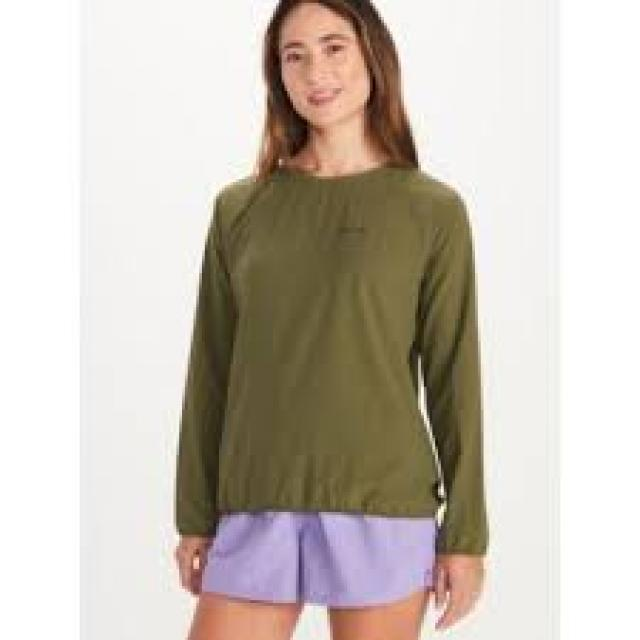plain: (176, 155, 494, 525)
